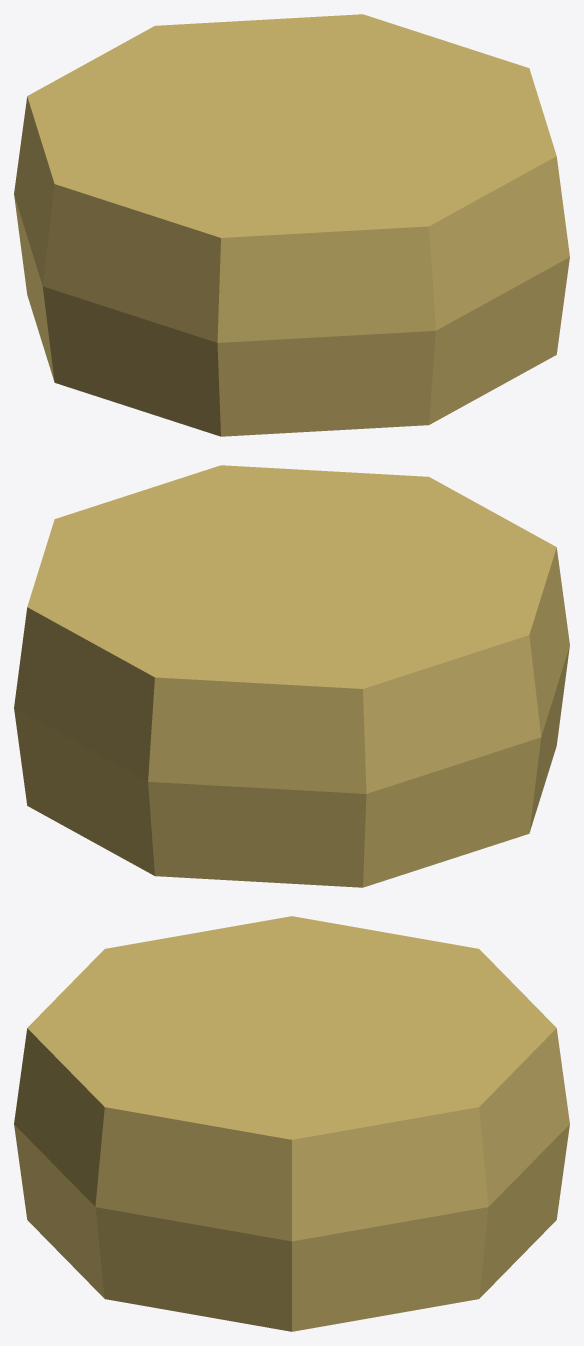
File: Cheese1.fbx
3 renders of one model, top to bottom at view 1: azimuth 30°, elevation 25°; view 2: azimuth 150°, elevation 25°; view 3: azimuth 270°, elevation 25°, orthographic. The views are drawn at different scales.
Visible parts, largest first — view 1: Cylinder; view 2: Cylinder; view 3: Cylinder.
Part boxes in pixels (box(x1,y1,x2,y2)): Cylinder: box(14, 14, 569, 436); Cylinder: box(14, 465, 569, 887); Cylinder: box(14, 916, 569, 1331).
Size of the model in its own units: 0.63 by 0.24 by 0.63.
